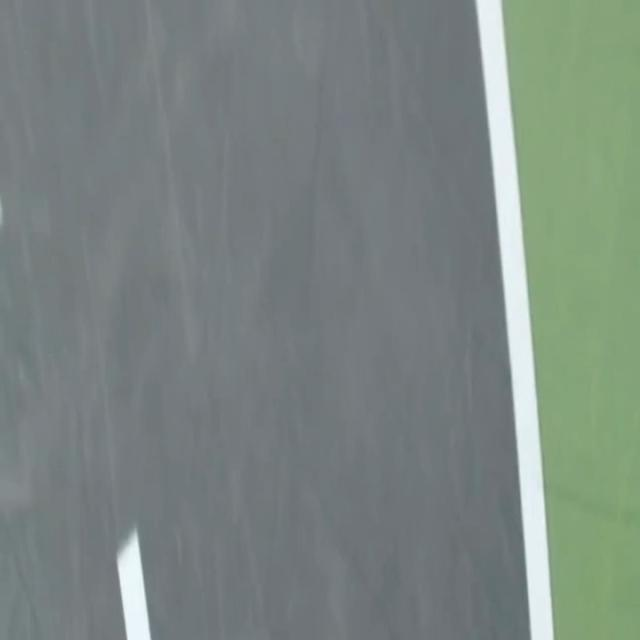center: (117, 529, 151, 639)
right: (476, 0, 554, 639)
